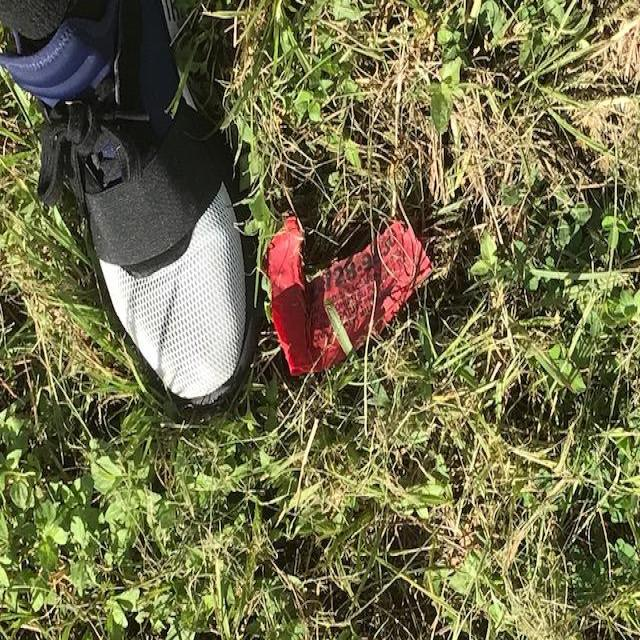litter: (267, 216, 434, 375)
